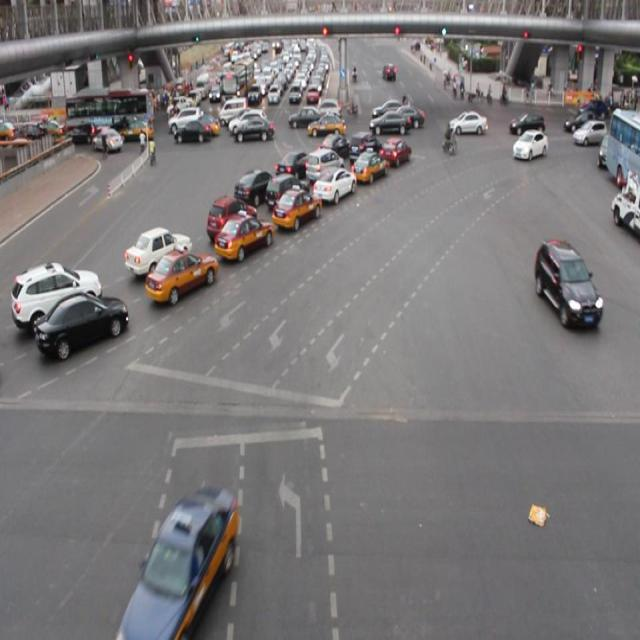car: (126, 489, 233, 640), (533, 239, 600, 330), (38, 289, 126, 356), (12, 260, 101, 324), (145, 247, 216, 301), (125, 224, 192, 274), (214, 213, 272, 259), (206, 195, 257, 239), (272, 187, 322, 230), (265, 170, 308, 208), (313, 167, 354, 203), (235, 168, 275, 204), (349, 149, 388, 183), (347, 129, 382, 164), (276, 150, 312, 181), (512, 128, 546, 160), (317, 131, 350, 162), (379, 138, 410, 170)
truck: (305, 149, 344, 185)
